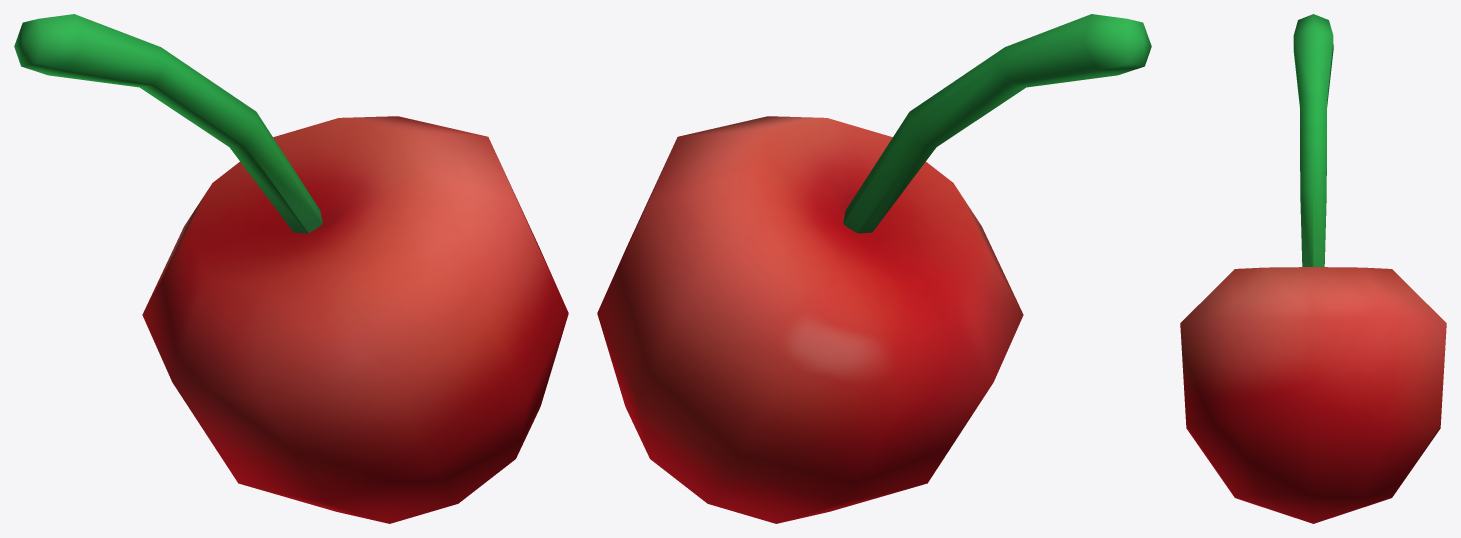
File: SE_Cherry_01.fbx
3 views of the same model, side by side, from view 1: azimuth 30°, elevation 25°; view 2: azimuth 150°, elevation 25°; view 3: azimuth 270°, elevation 25° (orthographic). The views are drawn at different scales.
Visible parts, largest first — view 1: SE_Cherry_01; view 2: SE_Cherry_01; view 3: SE_Cherry_01.
Boxes of the visible parts, x1,y1,x2,y2 form: SE_Cherry_01: [14, 14, 568, 523]; SE_Cherry_01: [597, 14, 1151, 523]; SE_Cherry_01: [1180, 14, 1446, 523].
Size of the model in its own units: 0.646 by 0.6728 by 0.4198.
